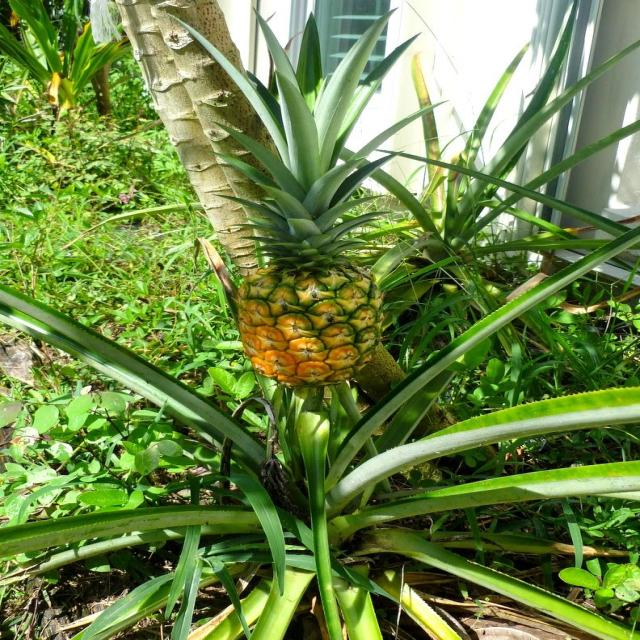pineapple: (230, 198, 389, 388)
